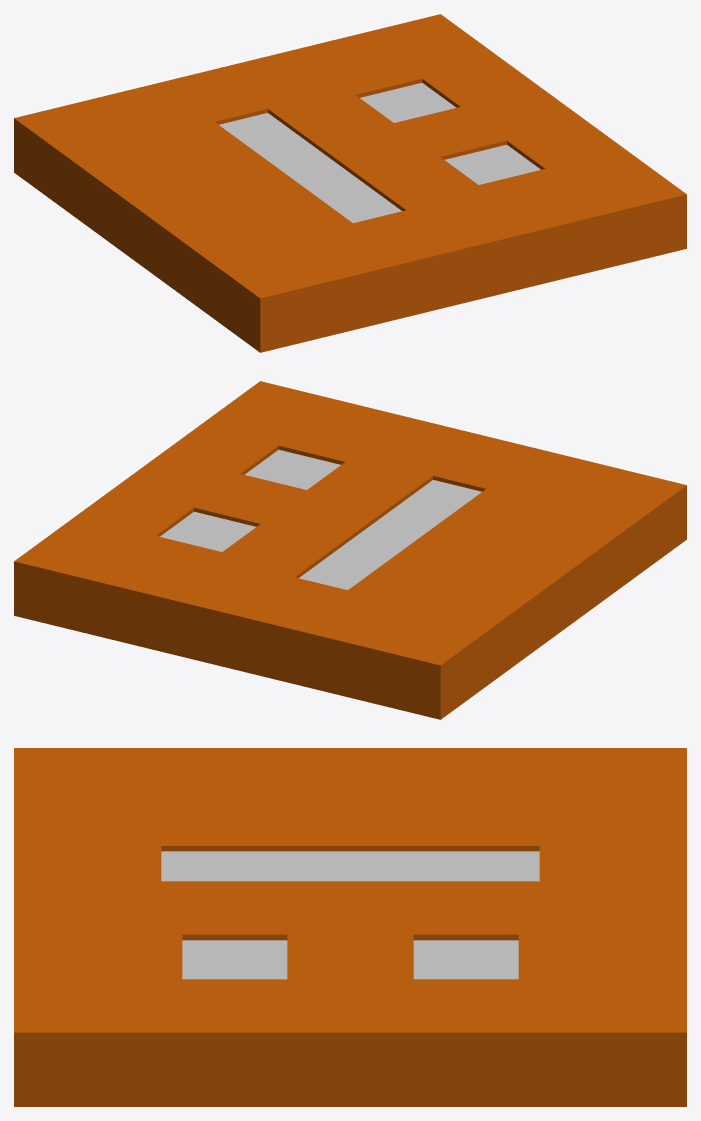
Rendered from DeadMesh.fbx.
The picture shows the model from 3 angles, top to bottom: view 1: azimuth 30°, elevation 25°; view 2: azimuth 150°, elevation 25°; view 3: azimuth 270°, elevation 25°; orthographic projection. The views are drawn at different scales.
Visible parts, largest first — view 1: Cube.001; view 2: Cube.001; view 3: Cube.001.
Part boxes in pixels (x1,y1,x2,y2): Cube.001: [14, 14, 686, 352]; Cube.001: [14, 381, 686, 719]; Cube.001: [14, 748, 686, 1106].
Bounding box in the file's own units: 200 × 200 × 24.36.
